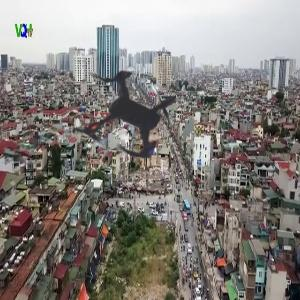drone: (24, 3, 240, 219)
